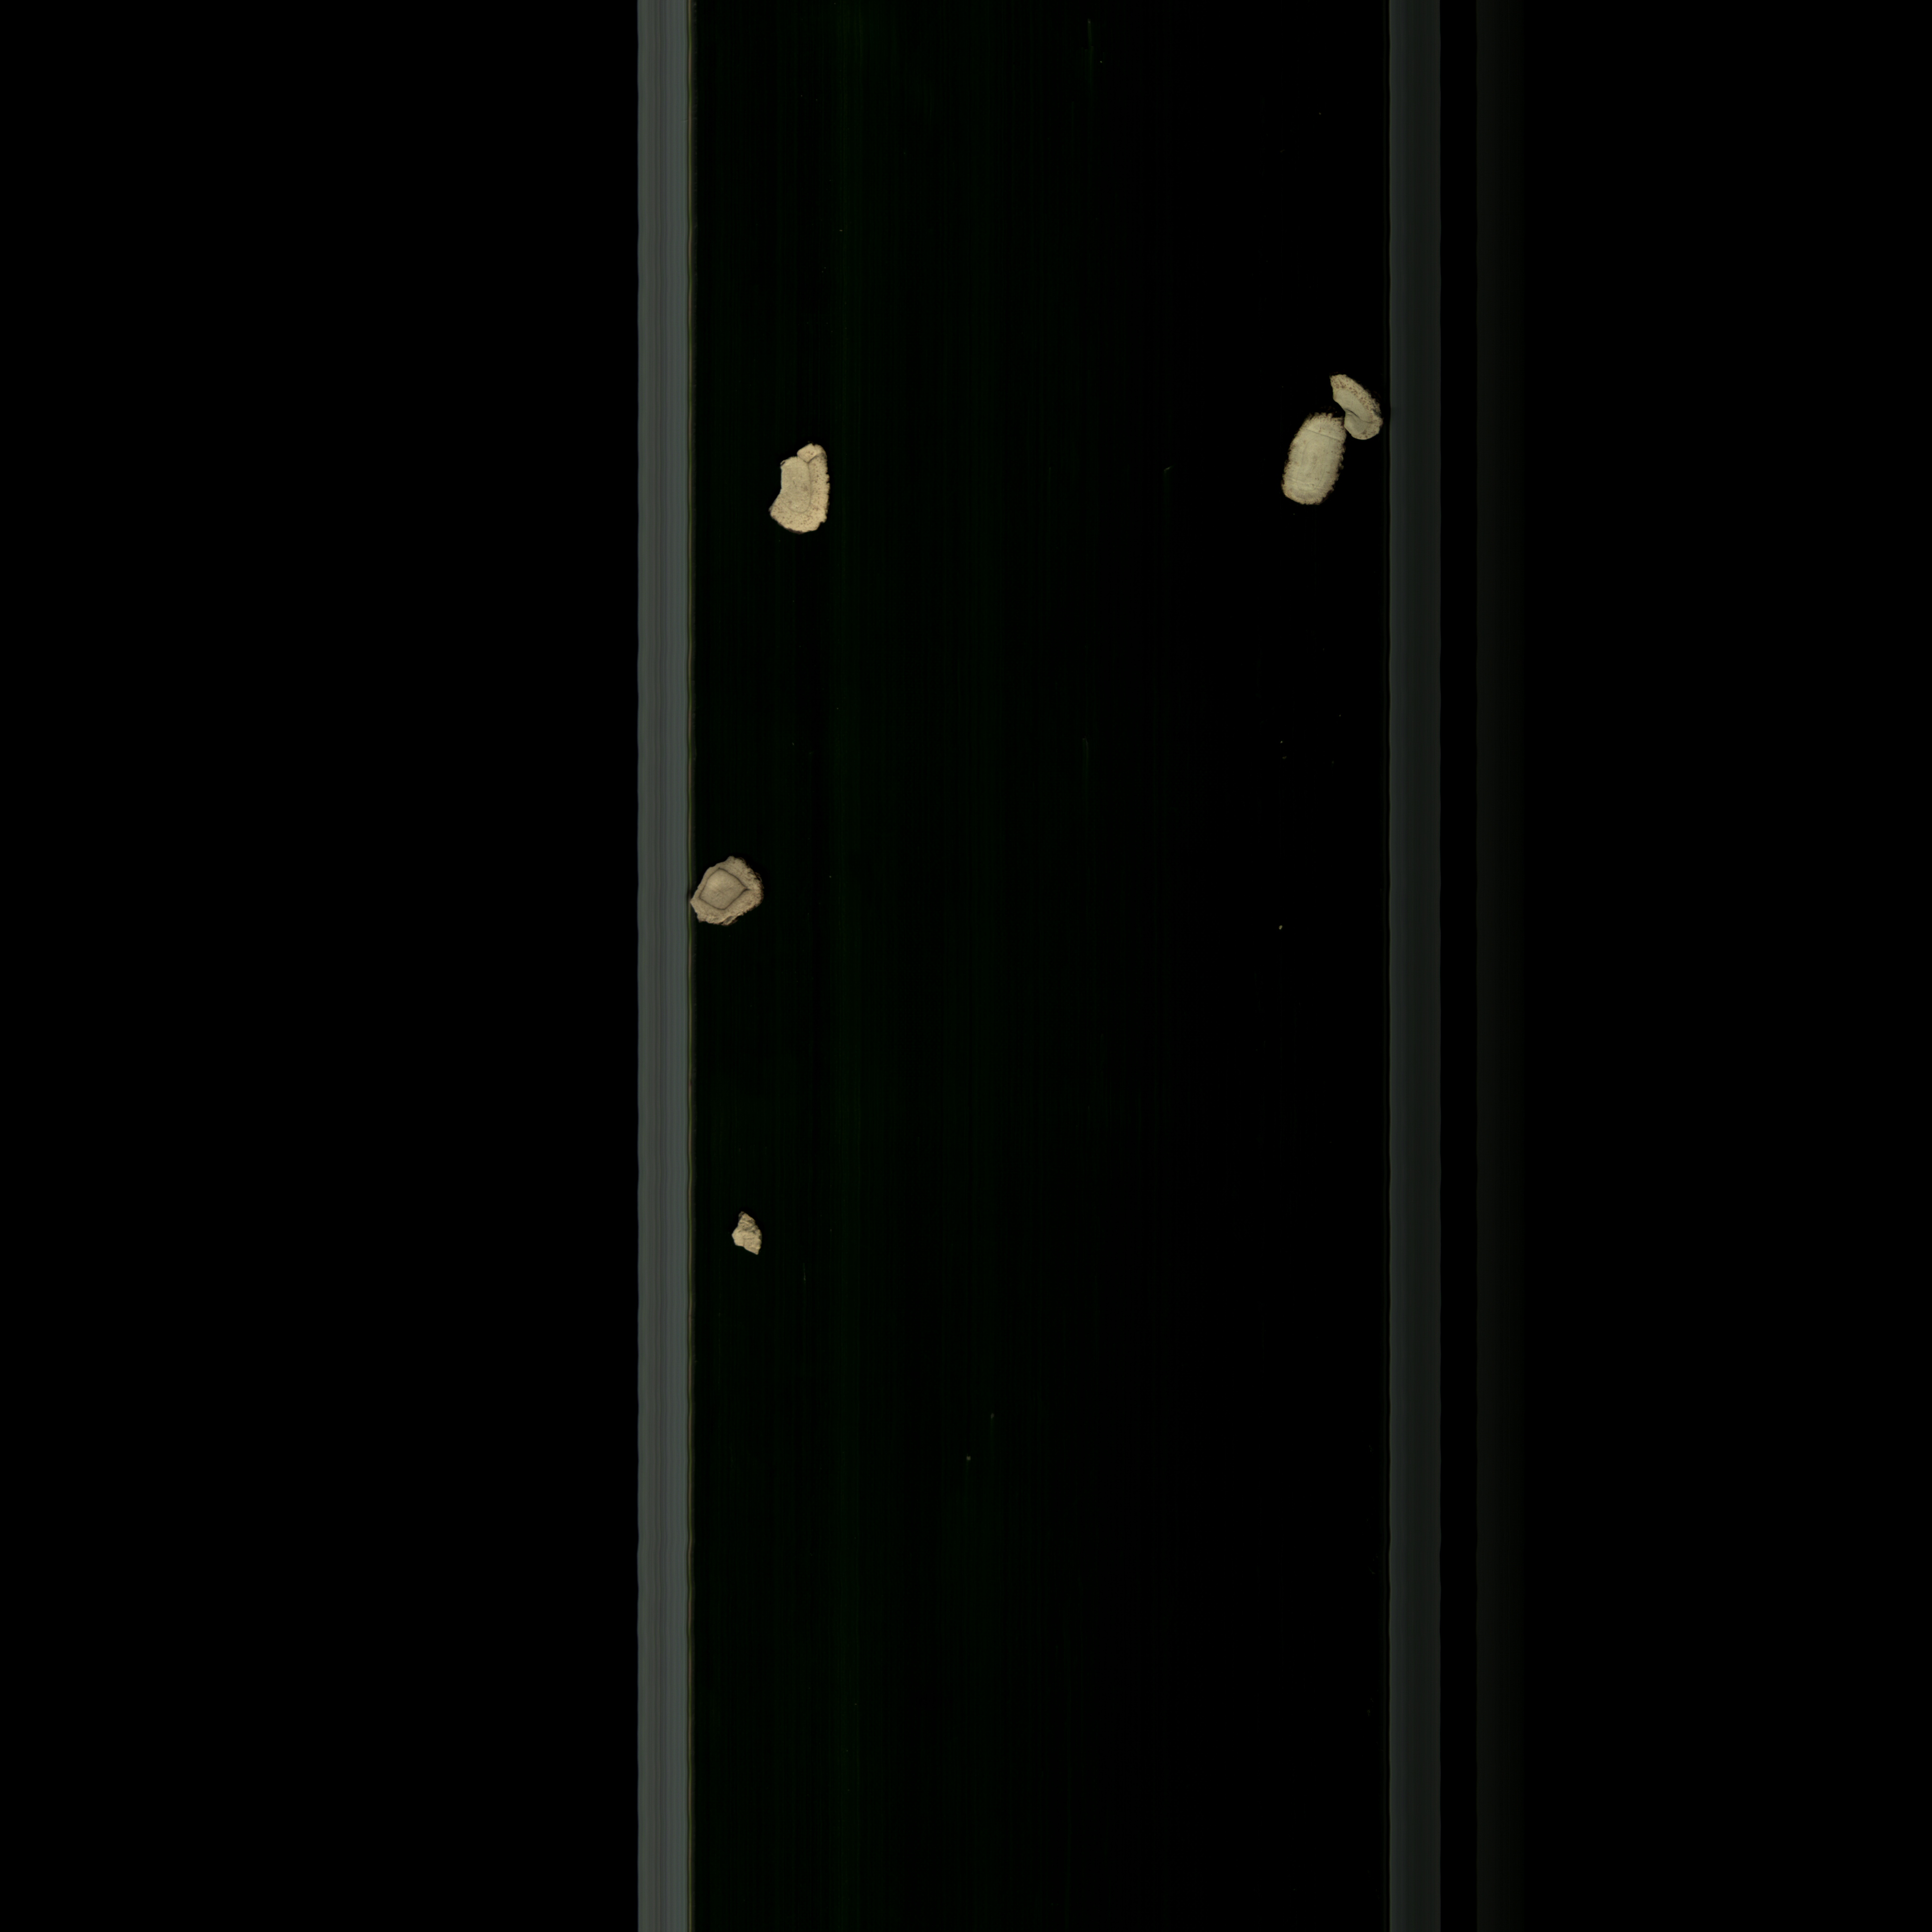debris: (763, 428, 835, 543), (1322, 363, 1382, 458)
distortion: (1276, 400, 1346, 517)
dreg: (727, 1203, 773, 1267)
moldy: (690, 847, 784, 938)
